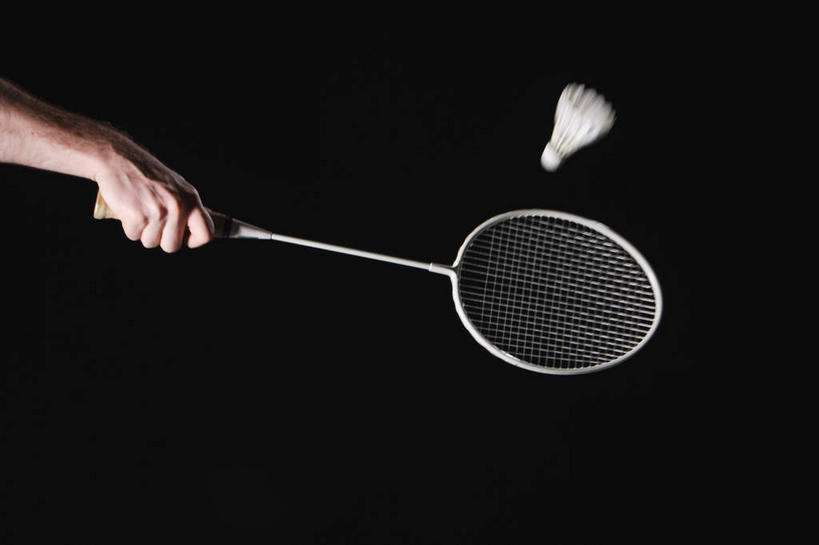no-phone: (58, 121, 341, 274)
